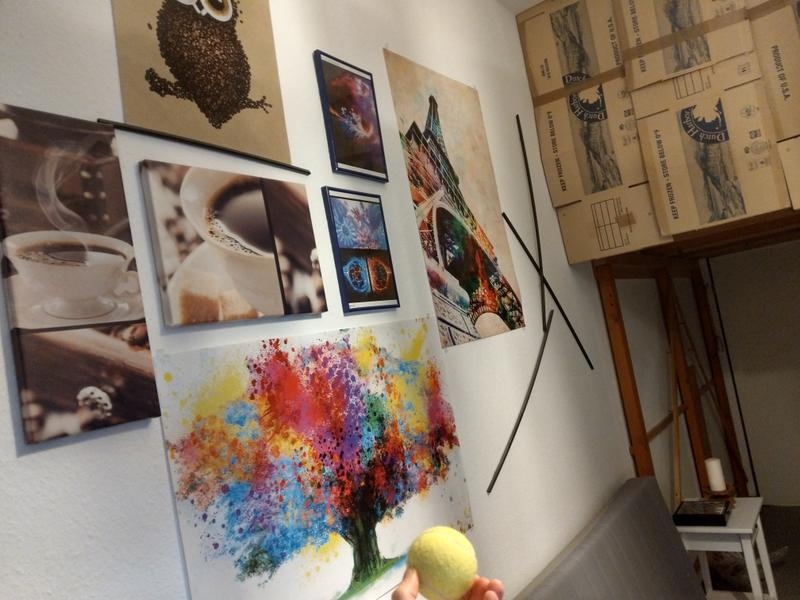Tennisball: (404, 524, 477, 599)
